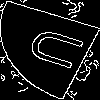U: (25, 25, 97, 75)
